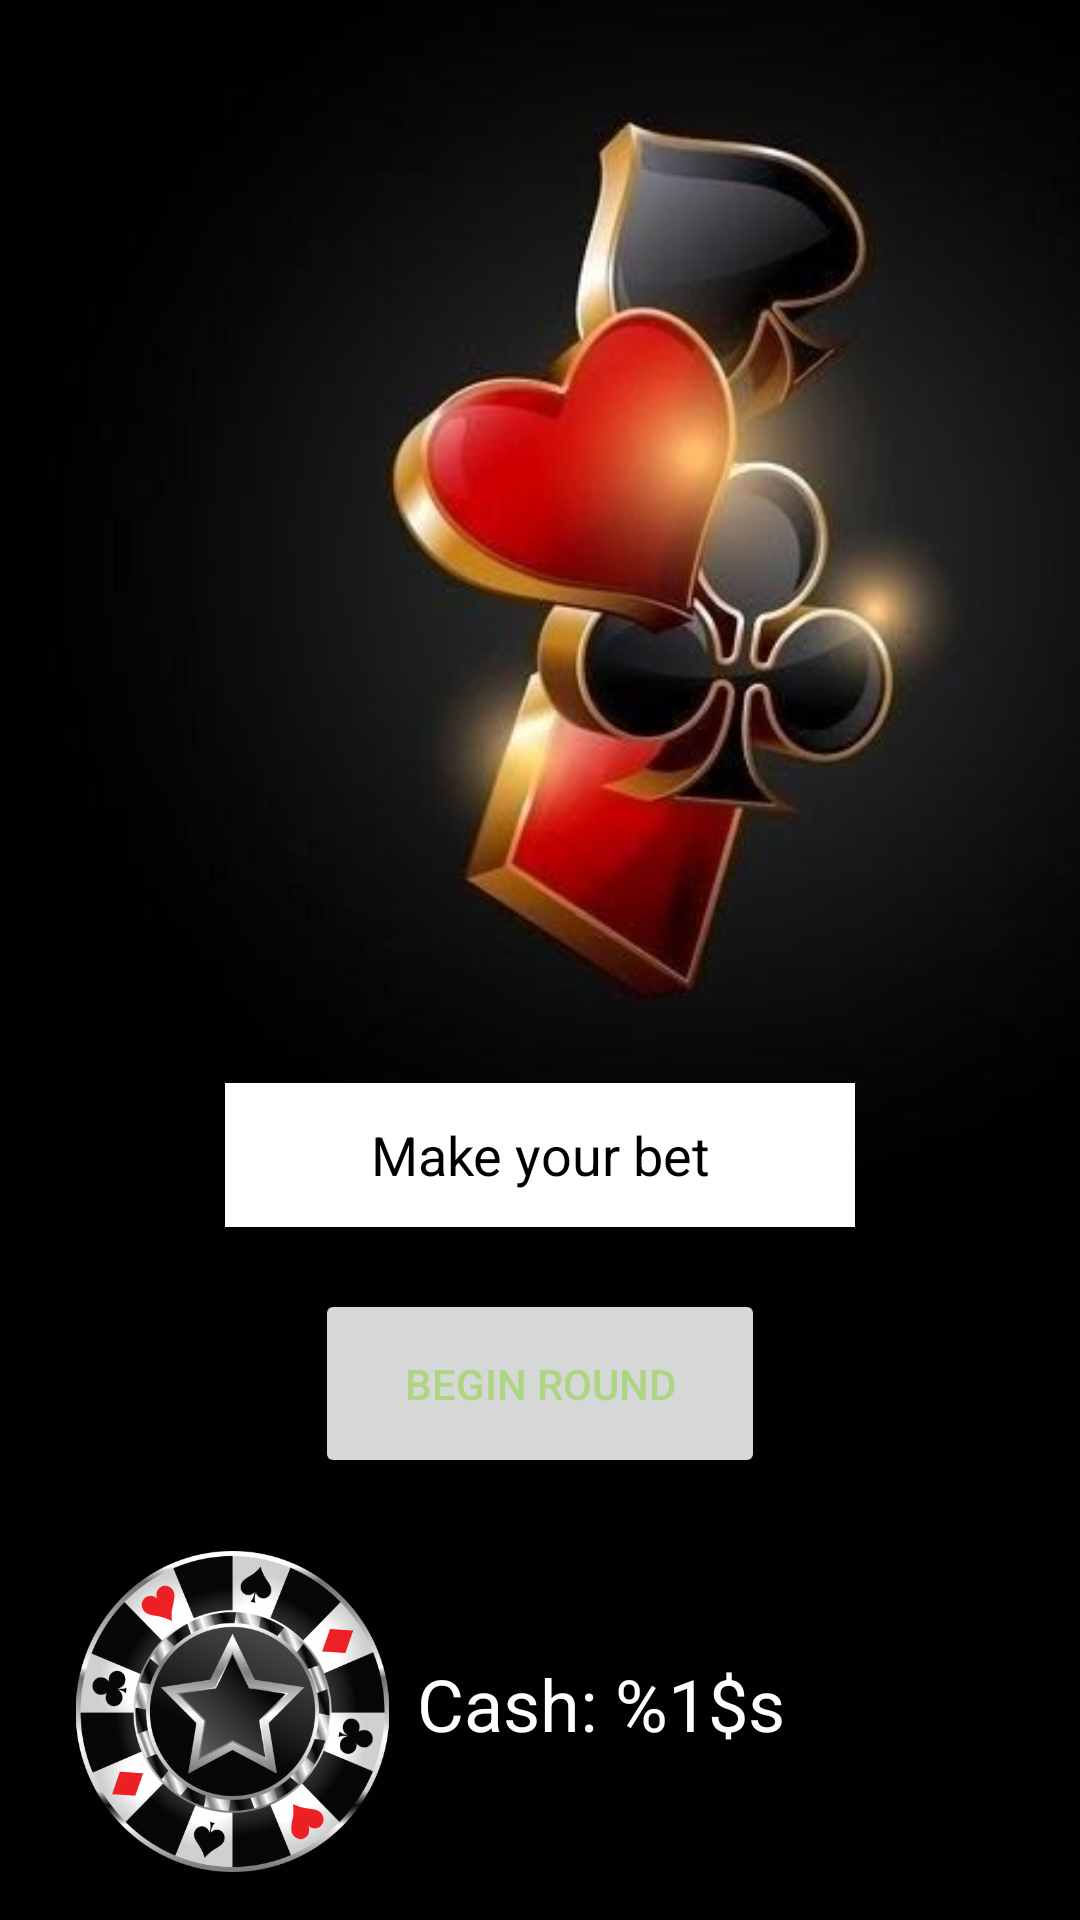

Screen size 1080w x 1920h. Icon name, then its center in pixels as [x,y]:
poker chip: [232,1711]
